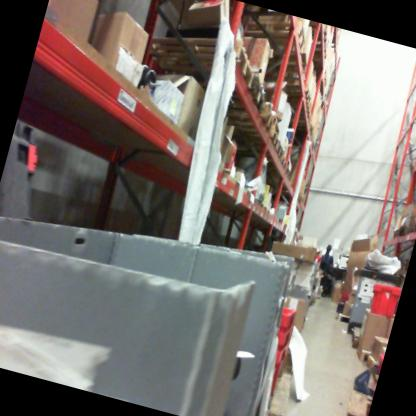pallet: (136, 17, 263, 109), (175, 53, 272, 132), (230, 6, 321, 75), (218, 90, 276, 142), (260, 354, 307, 416), (269, 73, 315, 114), (340, 380, 375, 416), (297, 36, 334, 70), (296, 18, 339, 46), (350, 332, 379, 365), (285, 102, 315, 128), (358, 349, 383, 380), (258, 129, 282, 158), (264, 108, 287, 138), (345, 322, 367, 351), (333, 308, 360, 328), (269, 141, 285, 168), (277, 155, 292, 178), (396, 222, 410, 244), (280, 161, 292, 184), (390, 224, 403, 244), (406, 219, 416, 239)
small_load_carrier: (259, 335, 296, 398), (361, 275, 402, 324), (270, 319, 303, 353), (273, 302, 301, 334)
